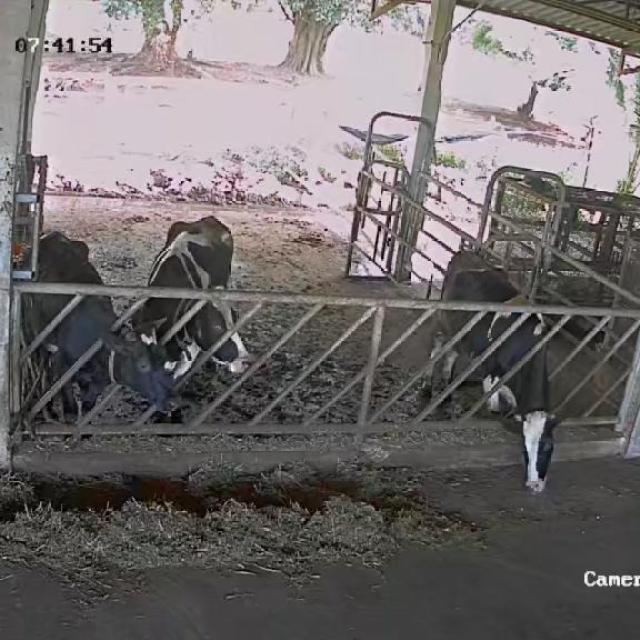feeding: (430, 244, 564, 496)
standing: (13, 222, 184, 440), (143, 214, 255, 396)
